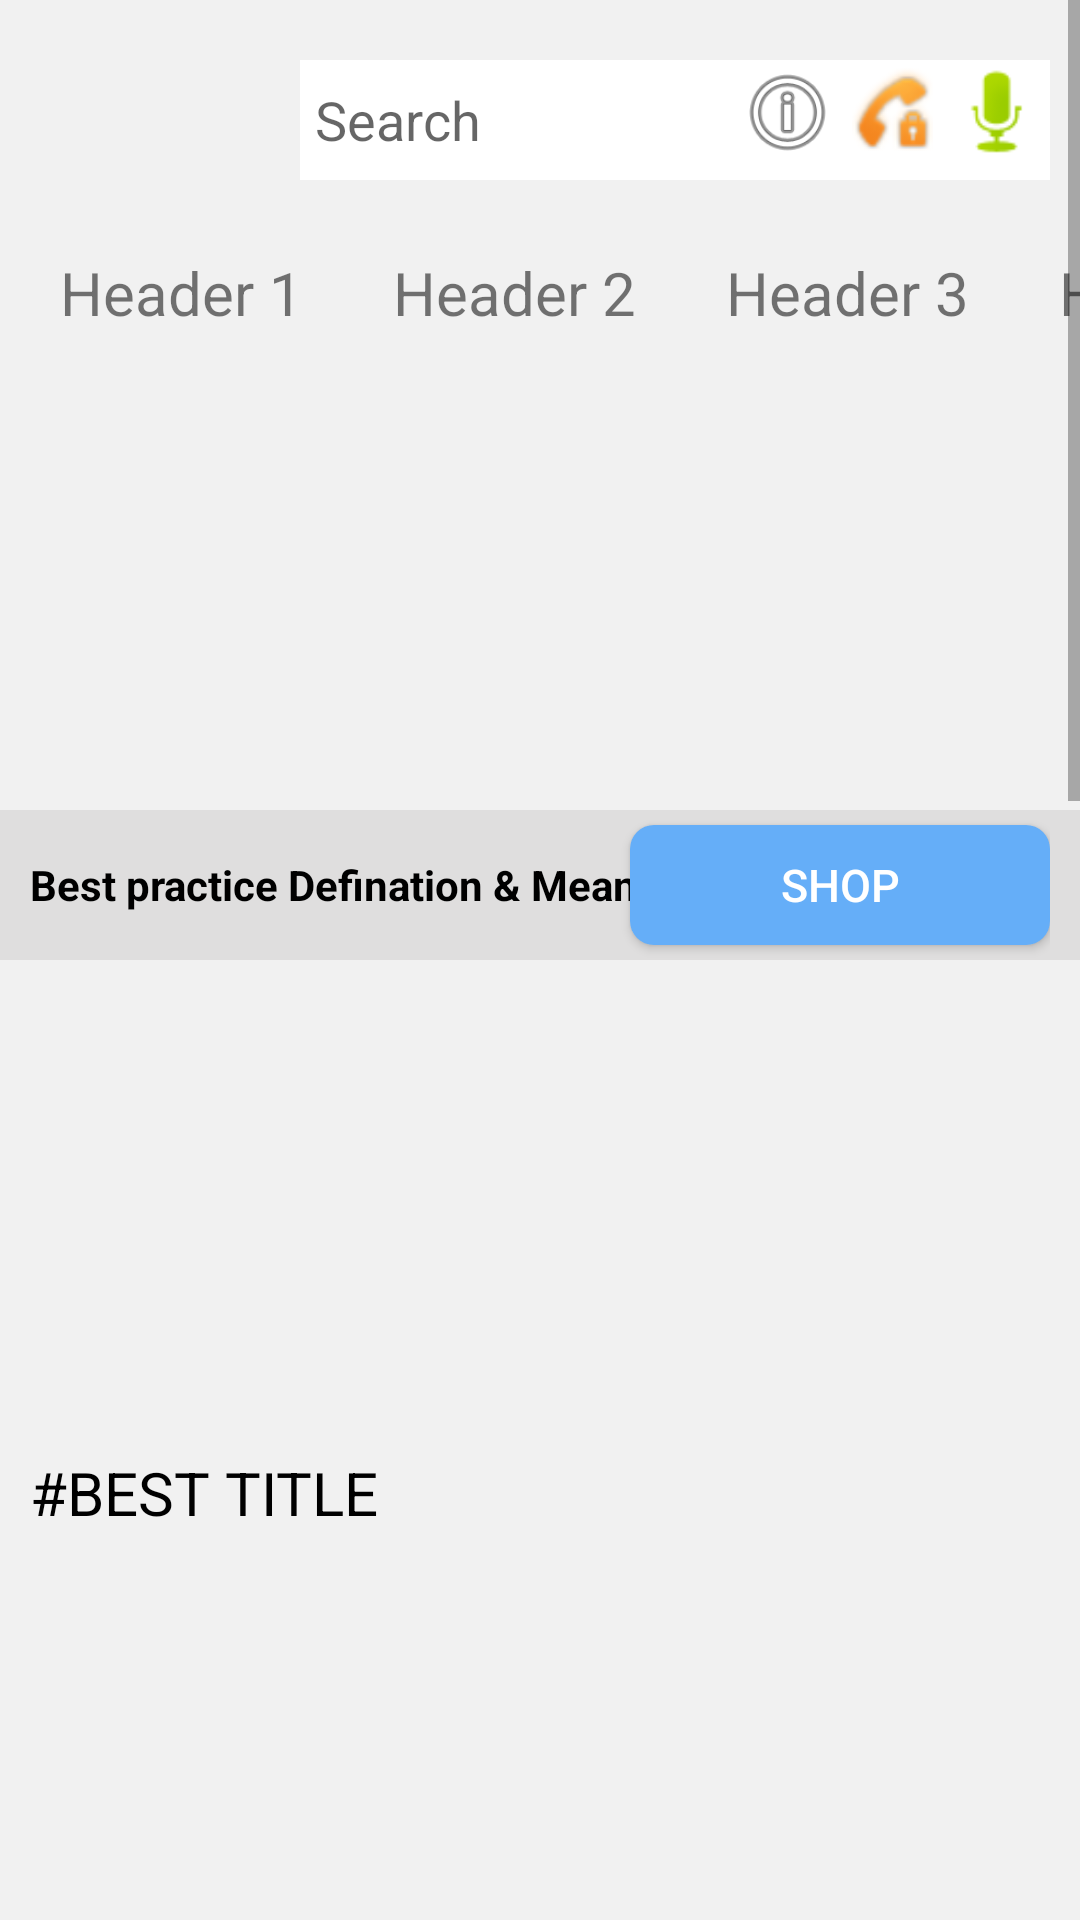

Locate icon controls on the screen. Image size 1080px x 1920px, boxes as detection(x1, y1, x2, y2).
info details: detection(749, 75, 826, 150)
phone call on hold: detection(856, 73, 929, 149)
presence audio online: detection(971, 70, 1022, 153)
